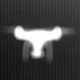plane: (4, 23, 78, 63)
